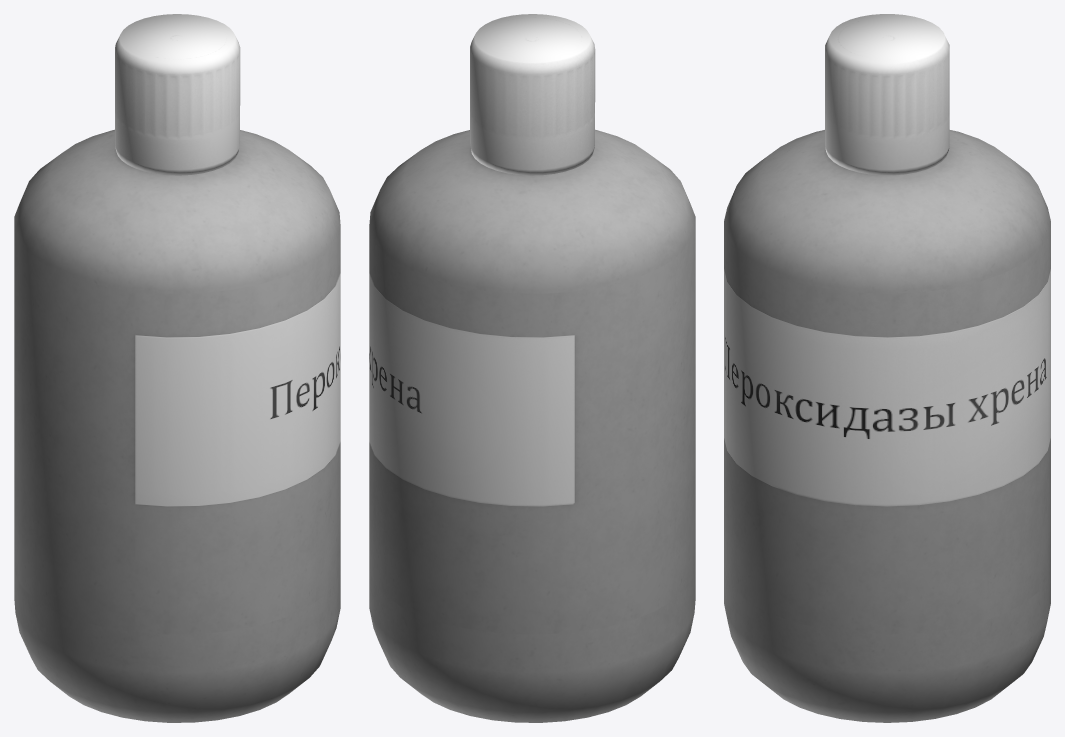
Rendered from bottle_3.fbx.
3 renders of one model, left to right at view 1: azimuth 30°, elevation 25°; view 2: azimuth 150°, elevation 25°; view 3: azimuth 270°, elevation 25°, orthographic.
Parts seen in each view (by area): view 1: Bottle_3, Cap_3; view 2: Bottle_3, Cap_3; view 3: Bottle_3, Cap_3.
Boxes of the visible parts, x1=… form: Bottle_3: x1=14, y1=129, x2=340, y2=722; Cap_3: x1=115, y1=14, x2=240, y2=175; Bottle_3: x1=369, y1=129, x2=695, y2=722; Cap_3: x1=470, y1=14, x2=595, y2=175; Bottle_3: x1=724, y1=130, x2=1050, y2=722; Cap_3: x1=825, y1=14, x2=949, y2=175.
Bounding box in the file's own units: 3.69 × 7.98 × 3.69.
